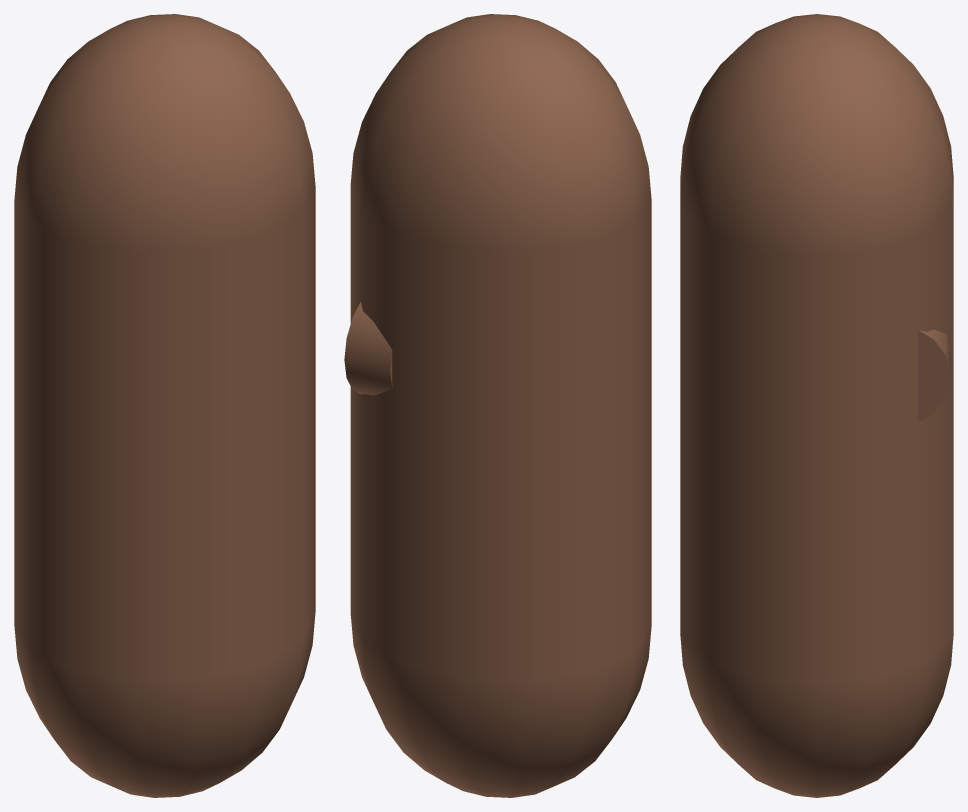
File: enemy-playground-war-drum-ogre-v1.glb
3 views of the same model, side by side, from view 1: azimuth 30°, elevation 25°; view 2: azimuth 150°, elevation 25°; view 3: azimuth 270°, elevation 25° (orthographic).
Visible parts, largest first — view 1: War Drum Ogre; view 2: War Drum Ogre; view 3: War Drum Ogre.
Part boxes in pixels (x1=…): War Drum Ogre: x1=14, y1=14, x2=315, y2=797; War Drum Ogre: x1=344, y1=14, x2=651, y2=797; War Drum Ogre: x1=680, y1=14, x2=953, y2=797.
Size of the model in its own units: 2.79 by 7.64 by 2.49.
